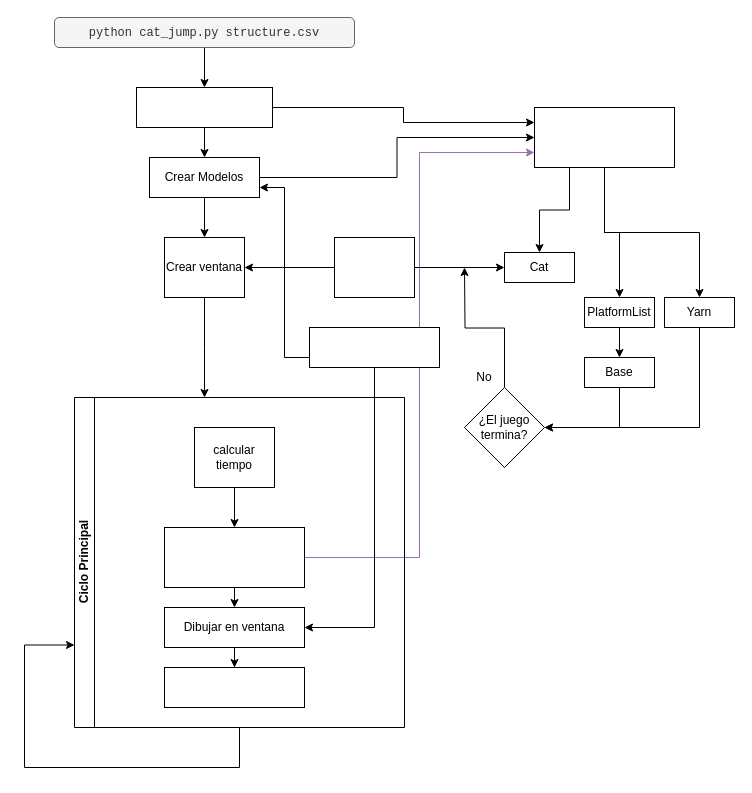
This 752x793 diagram has some shape labels left out. Each missing label, with the box of its shape:
Actualizar cambios en figuras: (164, 526, 304, 588)
Asociar Controlador: (334, 236, 414, 298)
Intercambiar Buffers: (164, 666, 304, 708)
Leer Estructura: (136, 86, 272, 128)
Mundo TextureScrollableWorld: (534, 106, 674, 168)
Shader de Textura: (308, 326, 440, 368)
